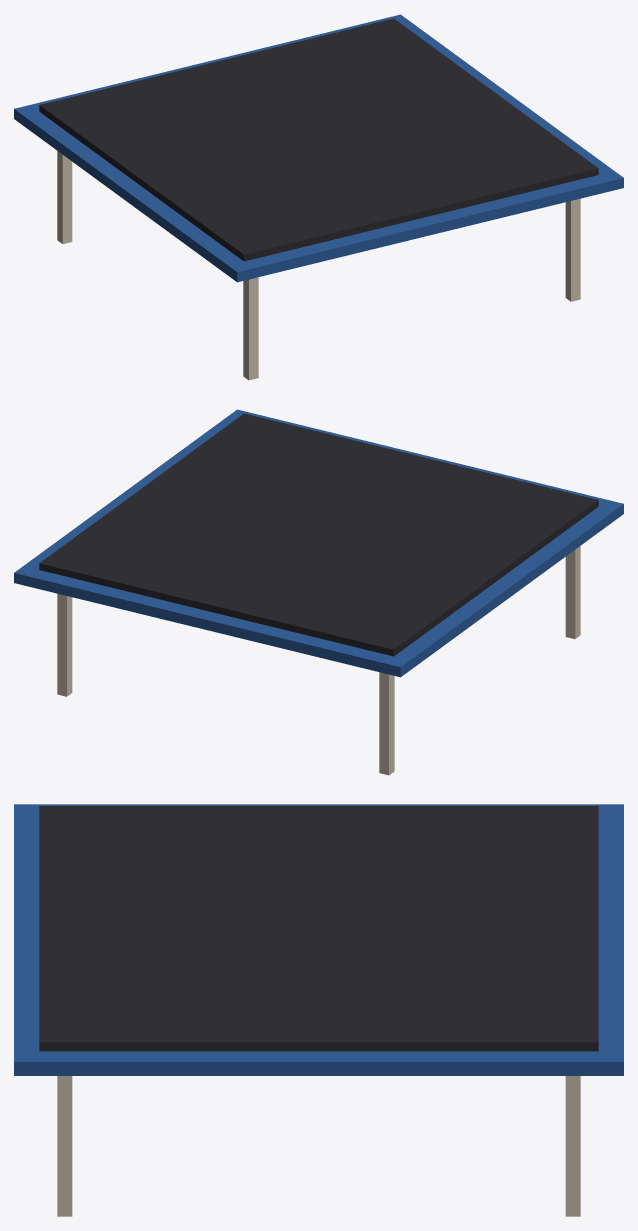
Rendered from kowalskis_trampoline.glb.
3 renders of one model, top to bottom at view 1: azimuth 30°, elevation 25°; view 2: azimuth 150°, elevation 25°; view 3: azimuth 270°, elevation 25°, orthographic. The views are drawn at different scales.
Parts seen in each view (by area): view 1: Box1, Box2, Box4, Box6, Box3; view 2: Box1, Box2, Box3, Box5, Box4; view 3: Box1, Box2, Box5, Box6.
Part boxes in pixels (<box>): Box1: <box>39,18,598,261</box>; Box2: <box>14,14,623,282</box>; Box4: <box>243,277,258,380</box>; Box6: <box>565,198,580,301</box>; Box3: <box>57,151,72,243</box>; Box1: <box>39,413,598,656</box>; Box2: <box>14,409,623,677</box>; Box3: <box>379,672,394,775</box>; Box5: <box>57,593,72,696</box>; Box4: <box>565,546,580,638</box>; Box1: <box>39,806,598,1051</box>; Box2: <box>14,804,623,1075</box>; Box5: <box>565,1076,580,1216</box>; Box6: <box>57,1076,72,1216</box>.
Bounding box in the file's own units: 2.4 × 0.79 × 2.4.
